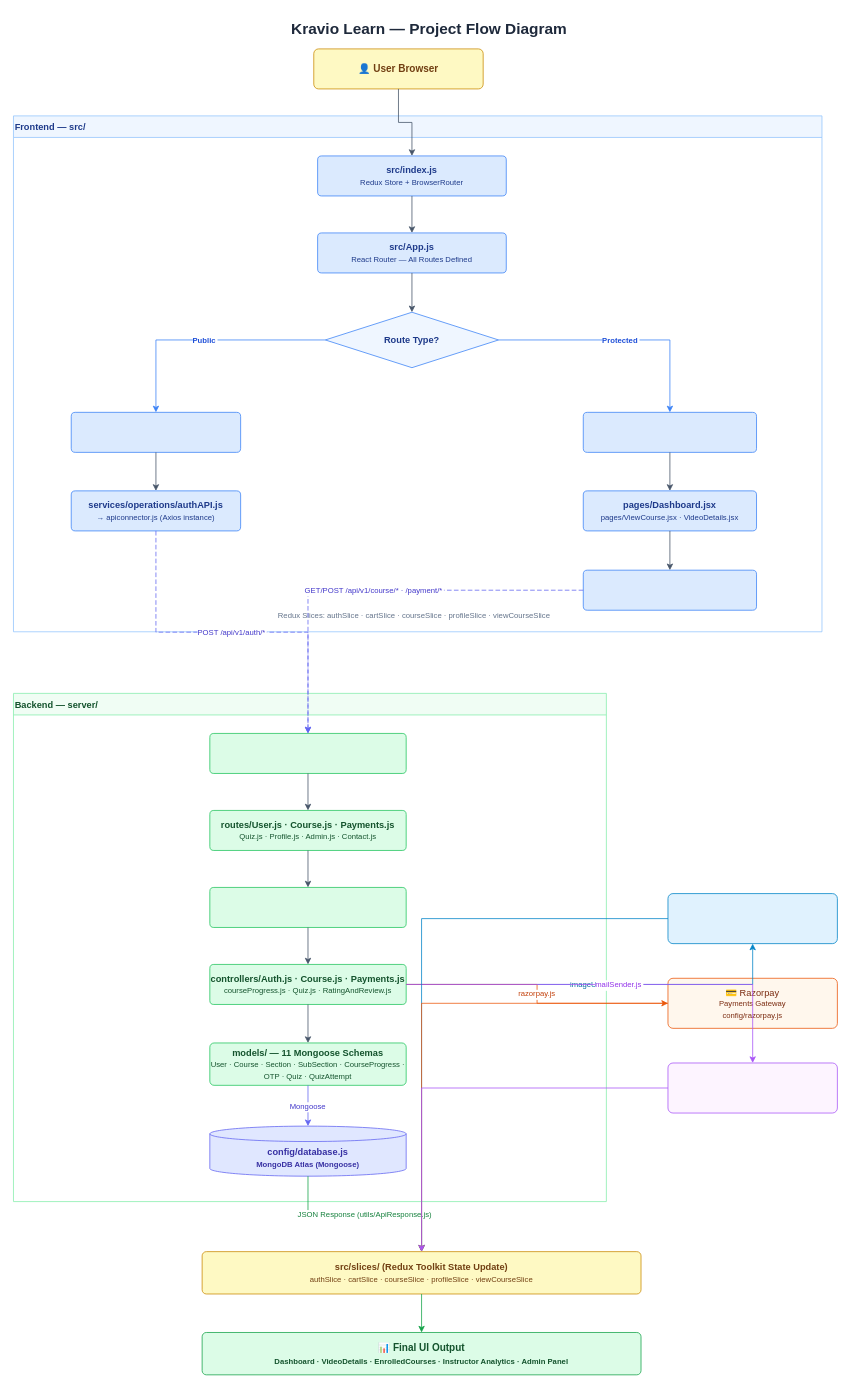
This 851x1388 diagram has some shape labels left out. Each missing label, with the centre of its shape:
components/core/Auth/ PrivateRoute.jsx · OpenRoute.jsx: [670,432]
middlewares/auth.js JWT verify → isStudent / isInstructor / isAdmin: [307,907]
pages/Login.jsx pages/Signup.jsx · VerifyEmail.jsx: [155,432]
server/index.js Express App · Rate Limiter · CORS · Port 4000: [307,753]
services/operations/ courseDetailsAPI.js · studentFeaturesAPI.js: [670,589]
☁️ Cloudinary Video / Image CDN utils/imageUploader.js: [752,918]
📧 Nodemailer OTP · Enrollment · Payment Emails utils/mailSender.js: [752,1087]
